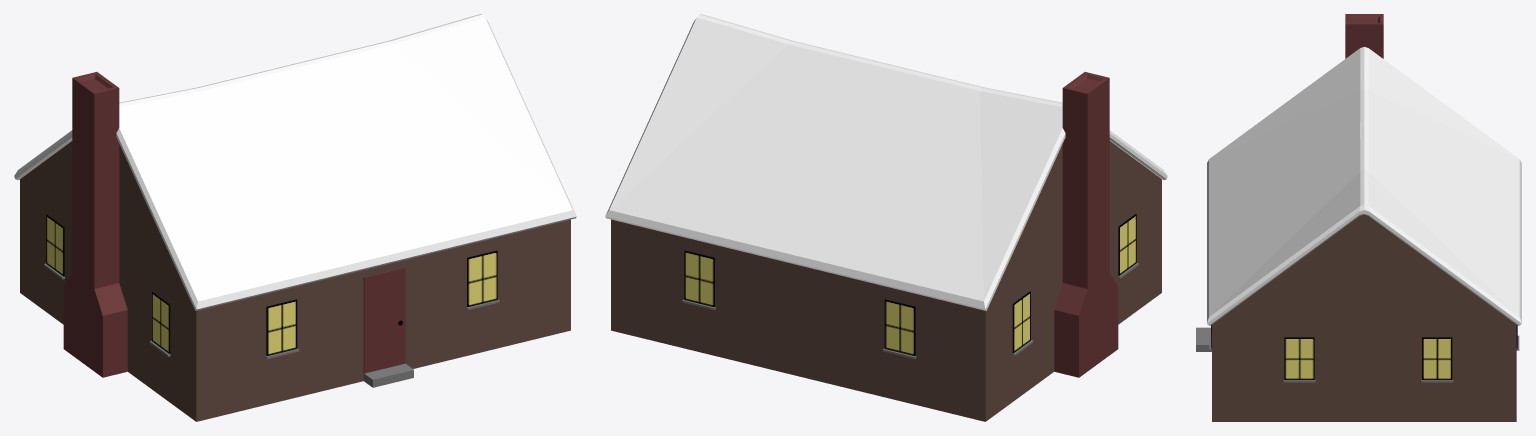
The model's file is house_1F_03.obj.
3 renders of one model, left to right at view 1: azimuth 30°, elevation 25°; view 2: azimuth 150°, elevation 25°; view 3: azimuth 270°, elevation 25°, orthographic. The views are drawn at different scales.
Size of the model in its own units: 894 by 589 by 726.
